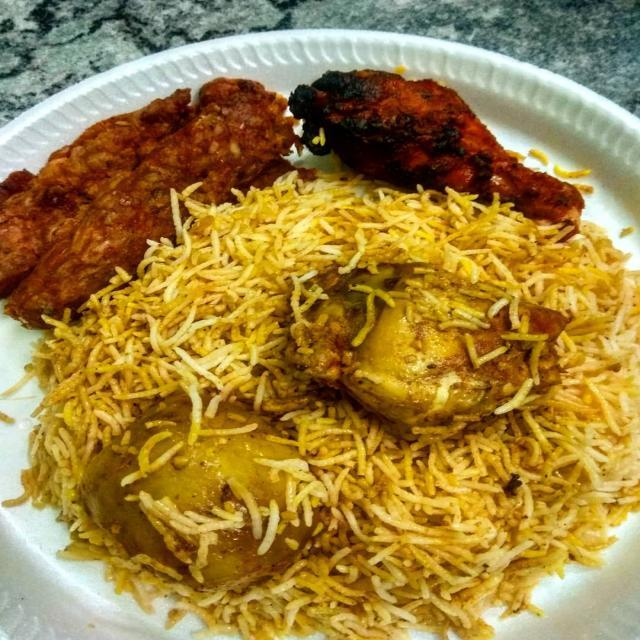biryani: (26, 94, 585, 640)
